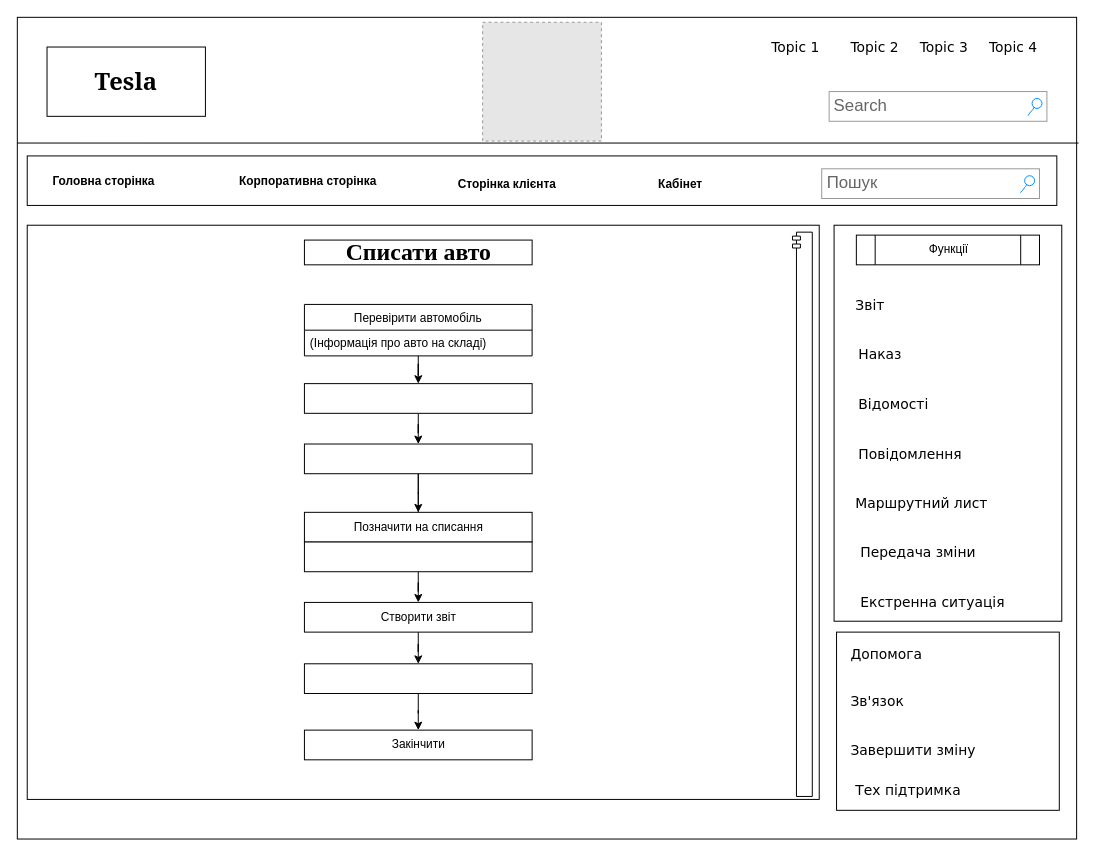
Image size: 1097x856. Some labels were removed from this diagram. Grey dashed boxes stand in for pictures. The shapes that lost their labels are listed below. From the top down, each one's centre as x and y in pixels, then its label:
At [417,398]: "Внесіть стан авто".
At [417,458]: "Підтвердити стан".
At [417,556]: "Позначити справне авто".
At [417,678]: "Перемістити авто".
